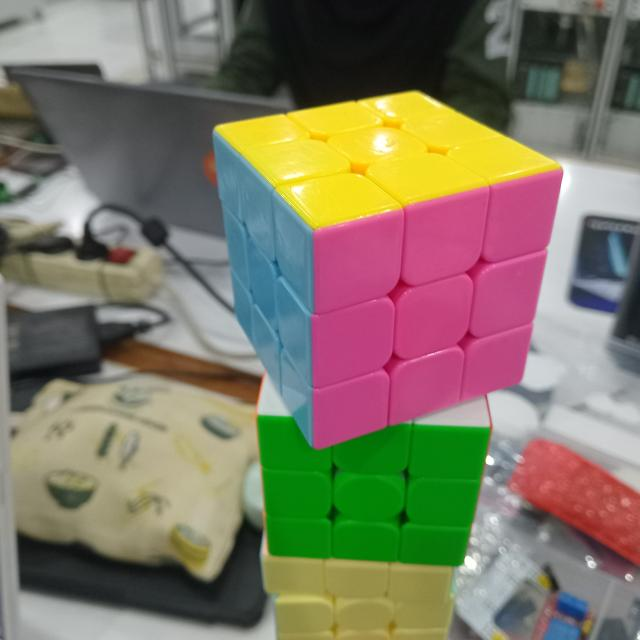back: (213, 130, 314, 448)
down: (215, 93, 561, 230)
right: (312, 169, 563, 450)
rubik: (209, 87, 569, 457)
